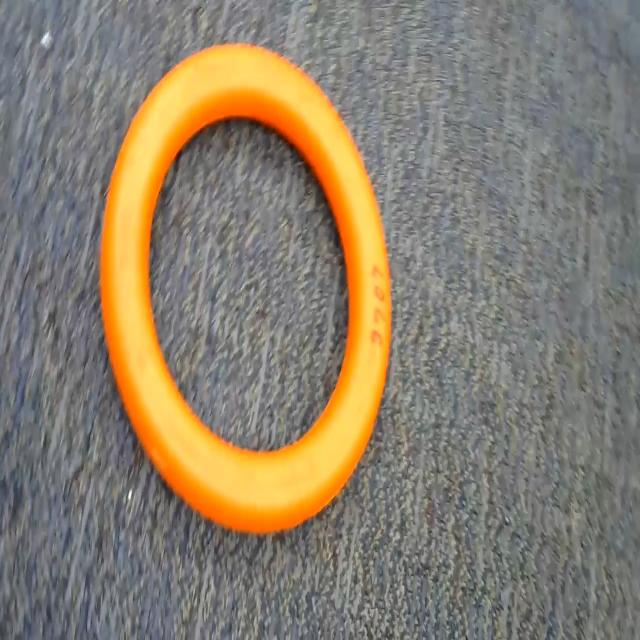note: (96, 31, 415, 563)
